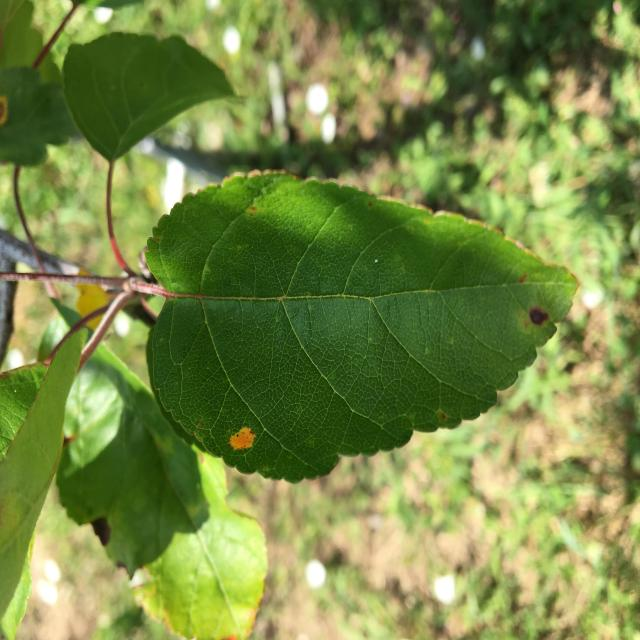Rust: (220, 419, 270, 485), (0, 76, 24, 146)
